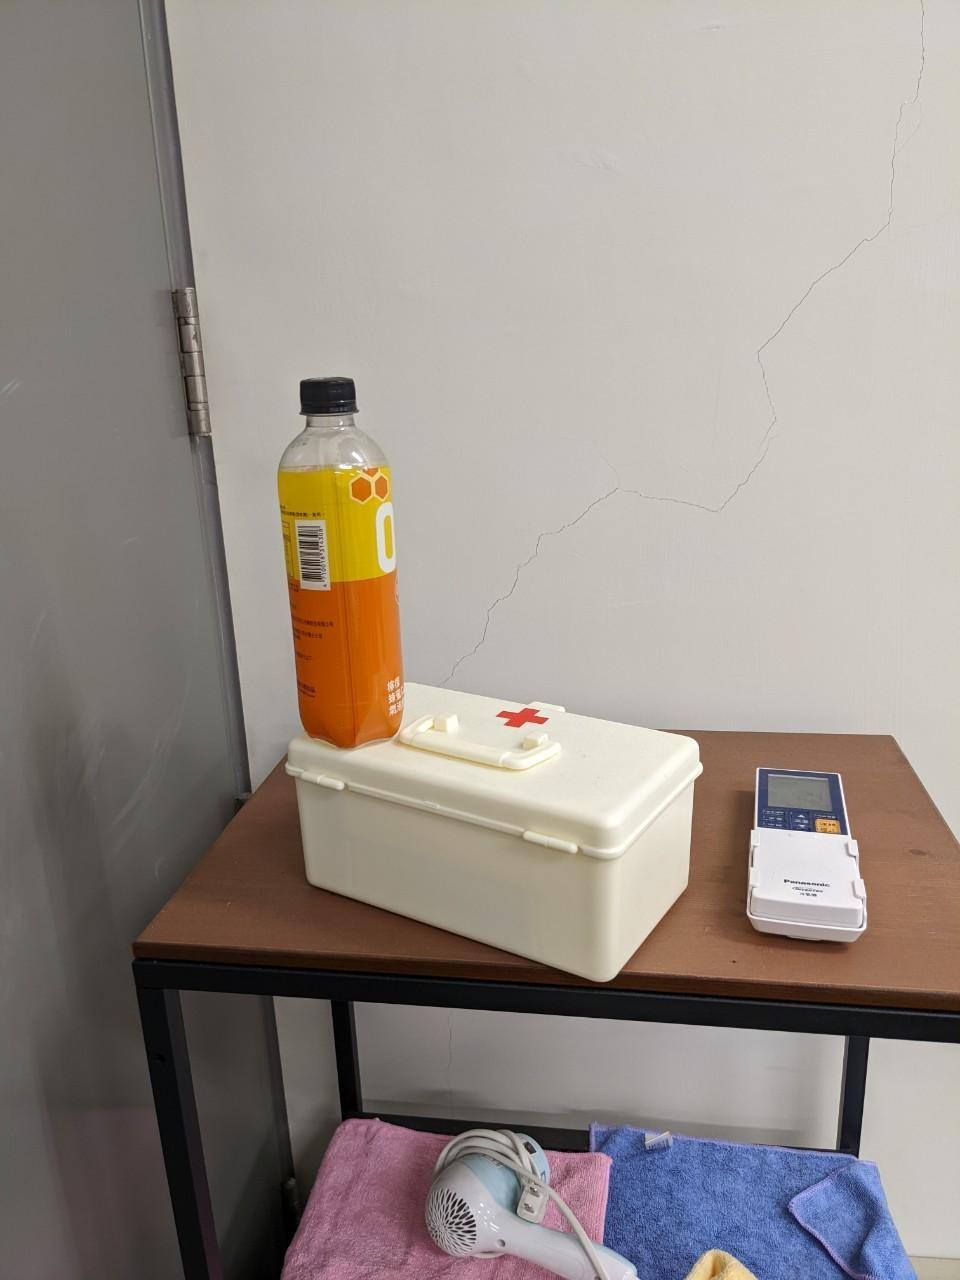BIODEGRADABLE: (265, 355, 423, 760)
